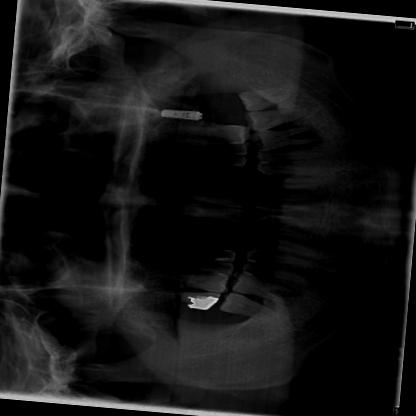ITI: (156, 107, 209, 121)
